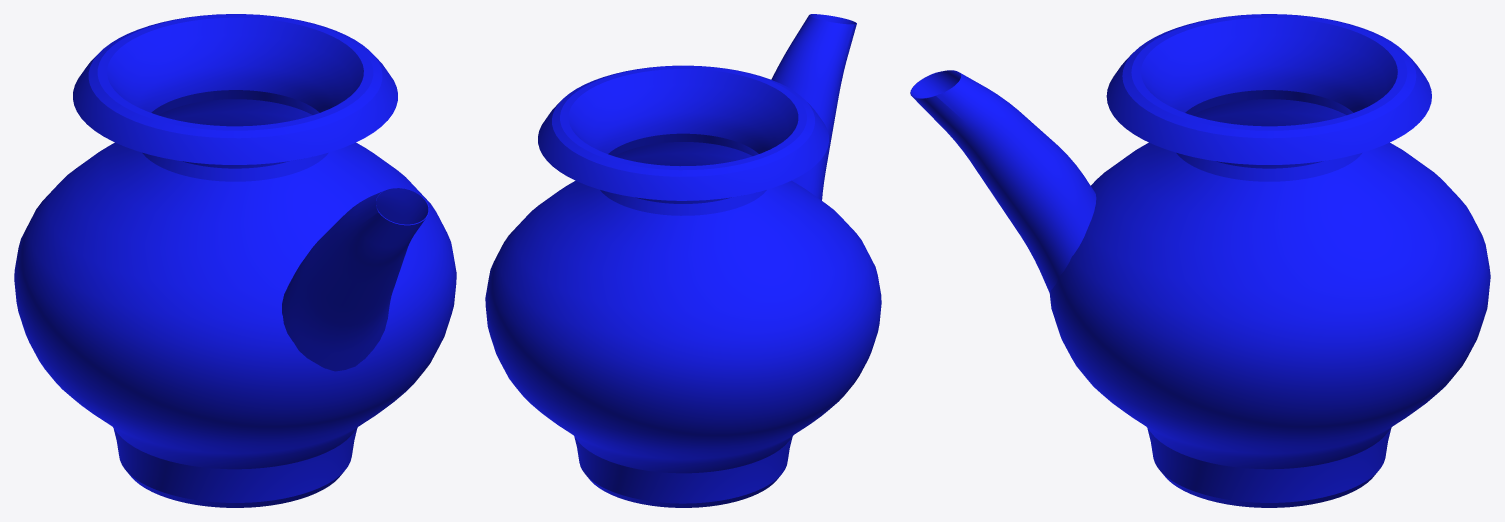
Rendered from BODNA.glb.
3 views of the same model, side by side, from view 1: azimuth 30°, elevation 25°; view 2: azimuth 150°, elevation 25°; view 3: azimuth 270°, elevation 25° (orthographic). The views are drawn at different scales.
Visible parts, largest first — view 1: bodna; view 2: bodna; view 3: bodna.
Boxes of the visible parts, bbox=[...] form: bodna: bbox=[14, 14, 456, 507]; bodna: bbox=[485, 14, 881, 507]; bodna: bbox=[910, 14, 1490, 507].
Size of the model in its own units: 0.1709 by 0.1661 by 0.224.
